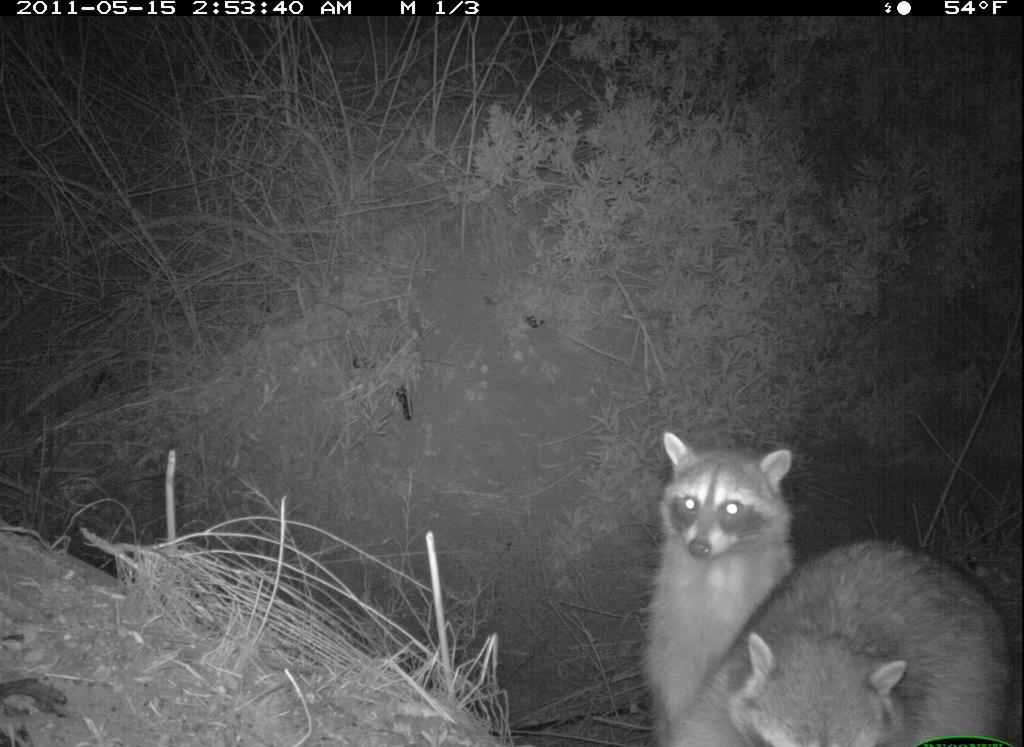raccoon: (661, 530, 1016, 747), (592, 419, 801, 743)
